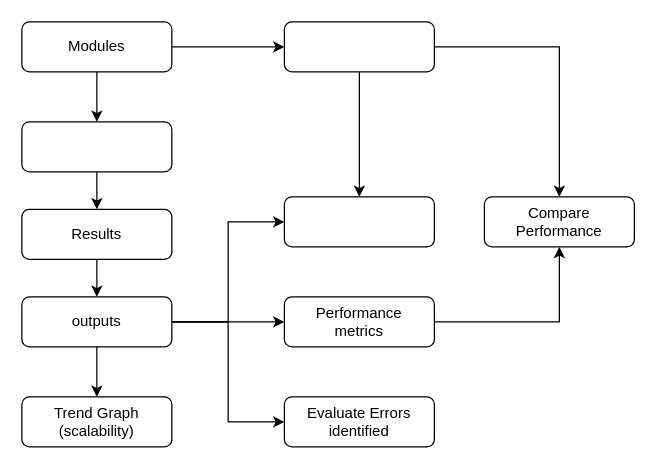
The diagram is 656 pixels wide and 469 high, and some of its shapes have lost their labels. The shapes that lost their labels are listed below. From the top down, each one's box as (x1, y1, x2, y2) in pixels, then its label:
(283, 21, 434, 72): Other analyse tools
(21, 121, 172, 172): Analyser
(283, 196, 434, 247): Validation with outputs
